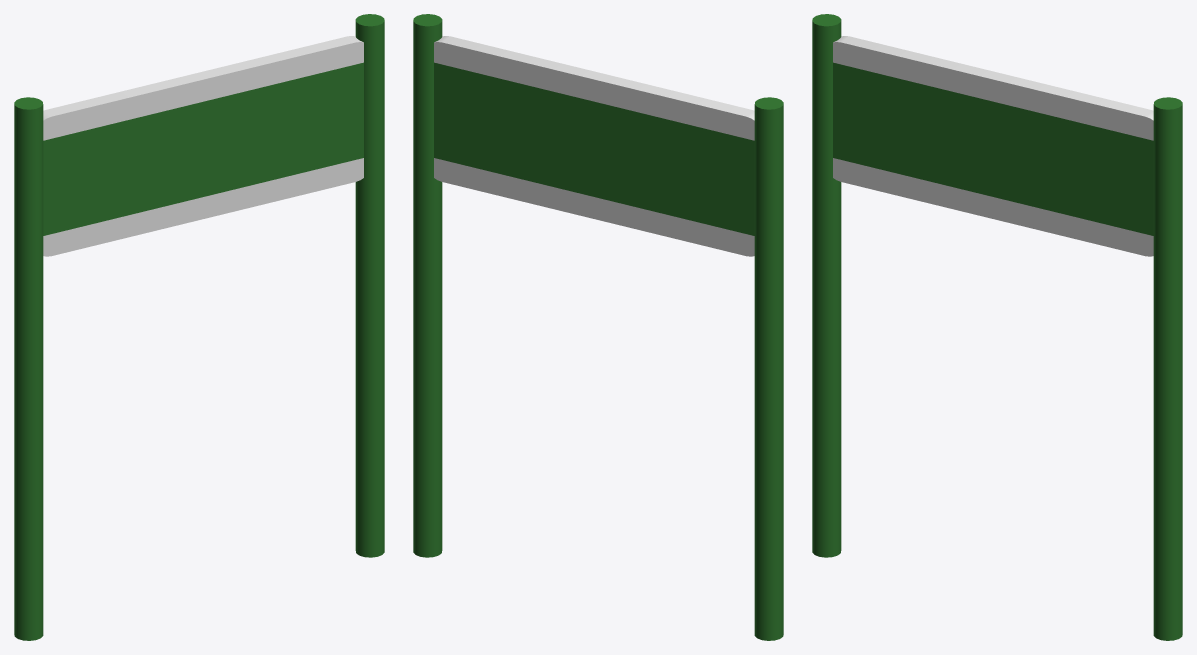
The model's file is Gate B.fbx.
3 renders of one model, left to right at view 1: azimuth 30°, elevation 25°; view 2: azimuth 150°, elevation 25°; view 3: azimuth 330°, elevation 25°, orthographic.
Visible parts, largest first — view 1: Gate B, Gate B.002, Gate B.001; view 2: Gate B, Gate B.002, Gate B.001; view 3: Gate B, Gate B.001, Gate B.002.
Boxes of the visible parts, <box> form: Gate B: <box>43,36,363,256</box>; Gate B.002: <box>14,97,43,640</box>; Gate B.001: <box>355,14,384,557</box>; Gate B: <box>434,36,754,256</box>; Gate B.002: <box>754,97,783,640</box>; Gate B.001: <box>413,14,442,557</box>; Gate B: <box>833,36,1153,256</box>; Gate B.001: <box>1153,97,1182,640</box>; Gate B.002: <box>812,14,841,557</box>.
Size of the model in its own units: 308 by 427 by 21.39.
